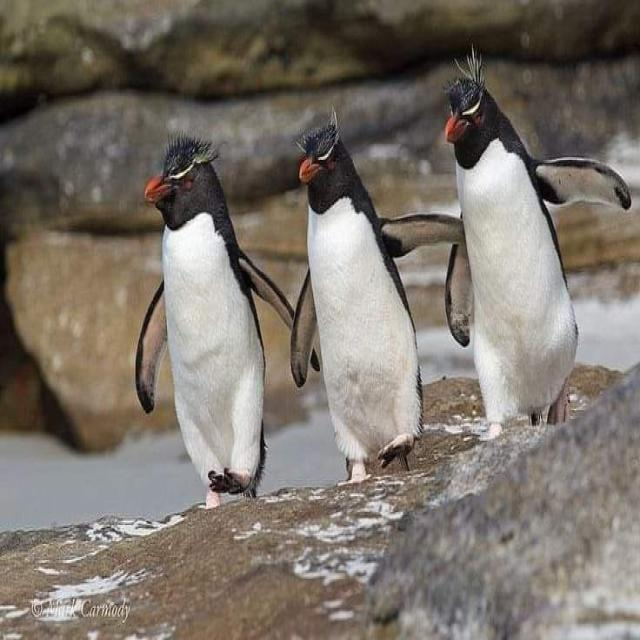Penguins: (437, 56, 582, 441), (288, 112, 421, 490), (143, 127, 267, 509)
